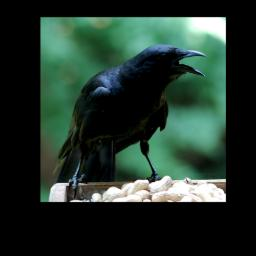Crow: (53, 44, 207, 199)
